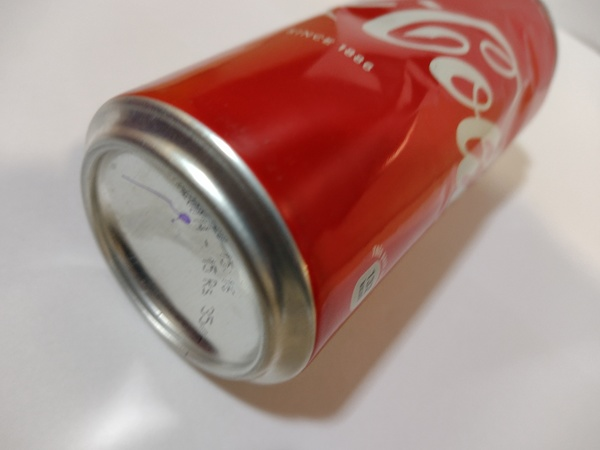can: (71, 1, 561, 395)
